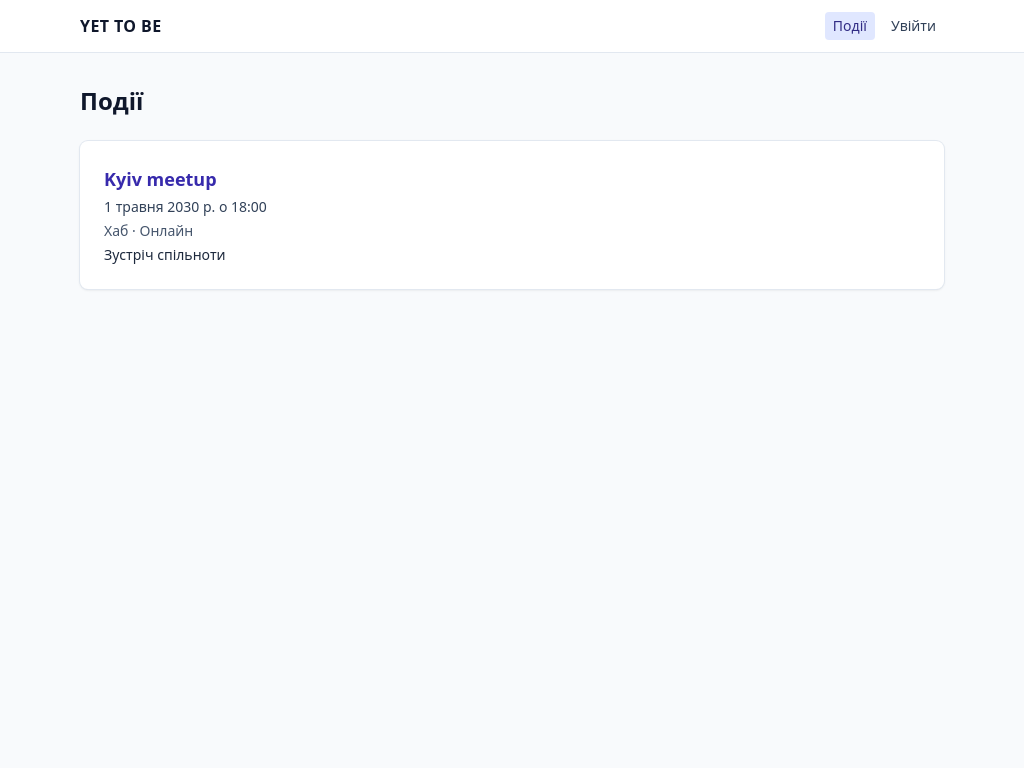
Test: публічні події › гість бачить список і сторінку, але для запису має увійти
Click the link "Kyiv meetup": (160, 179) [104,167,217,191]
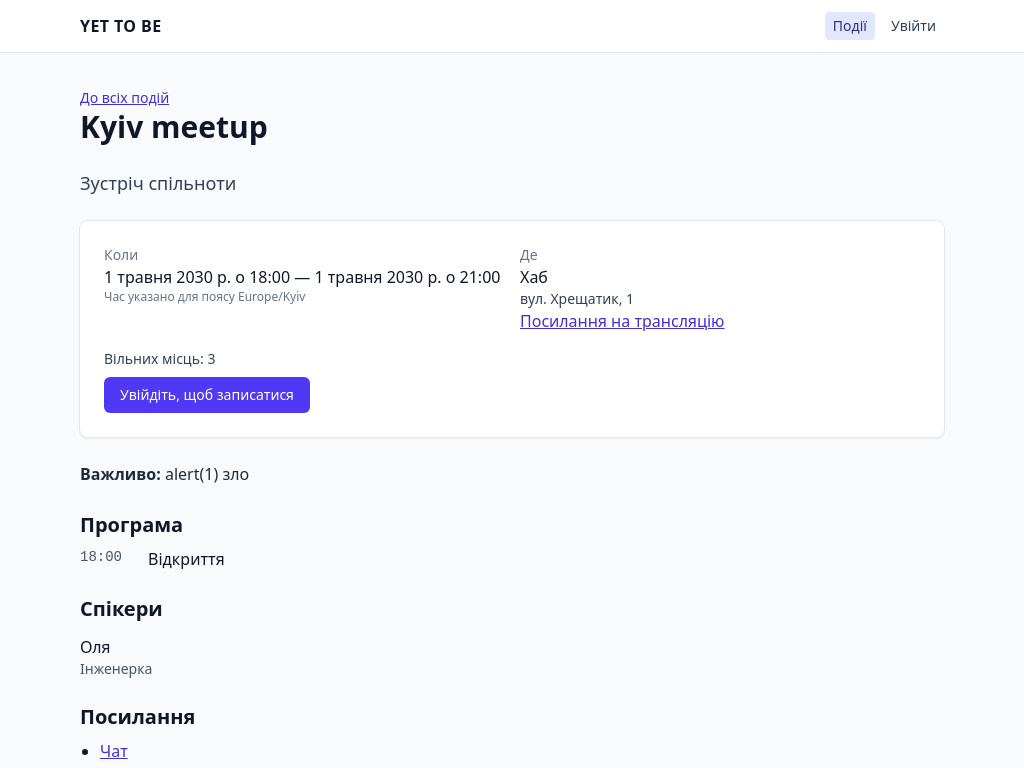
Expected: the text "Вільних місць: 3" is shown, [104,349,215,368]
Expected: the heading "Програма" is shown, [80,511,183,538]
Expected: the text "Оля" is shown, [80,636,110,658]
